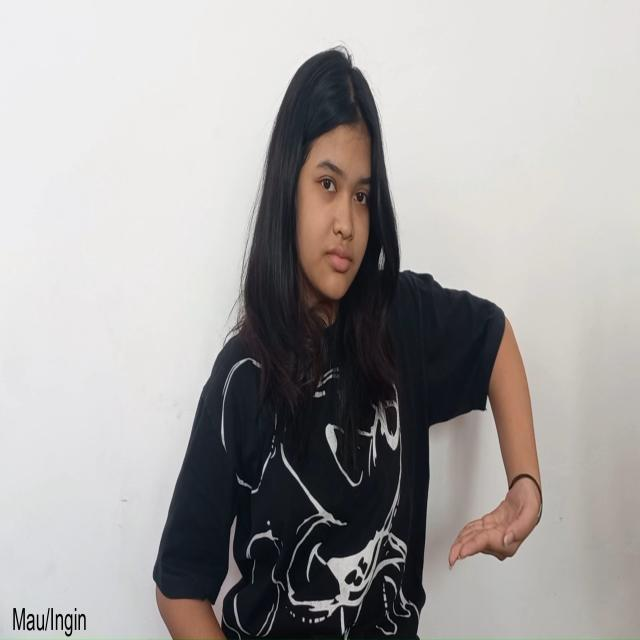Mau-Ingin -BISINDO-: (445, 470, 545, 574)
